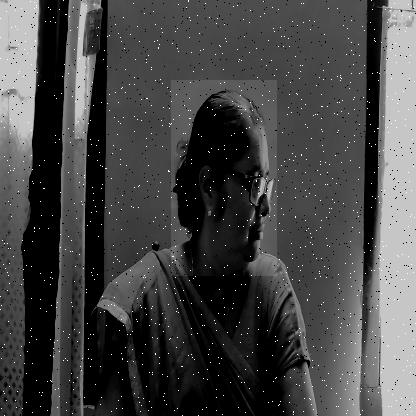Distracted: (171, 80, 277, 276)
